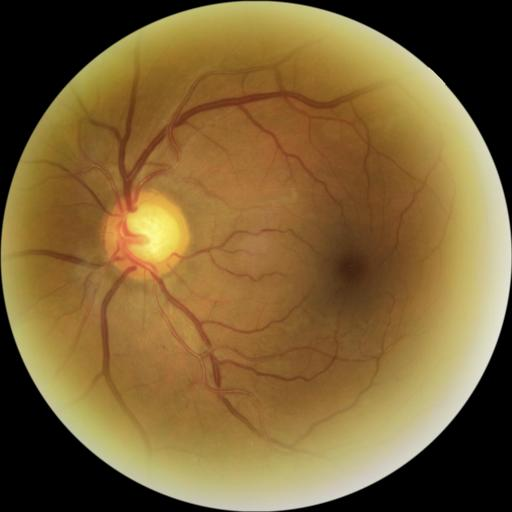Optic Cup: (118, 203, 178, 262)
Optic Disc: (101, 190, 192, 281)
